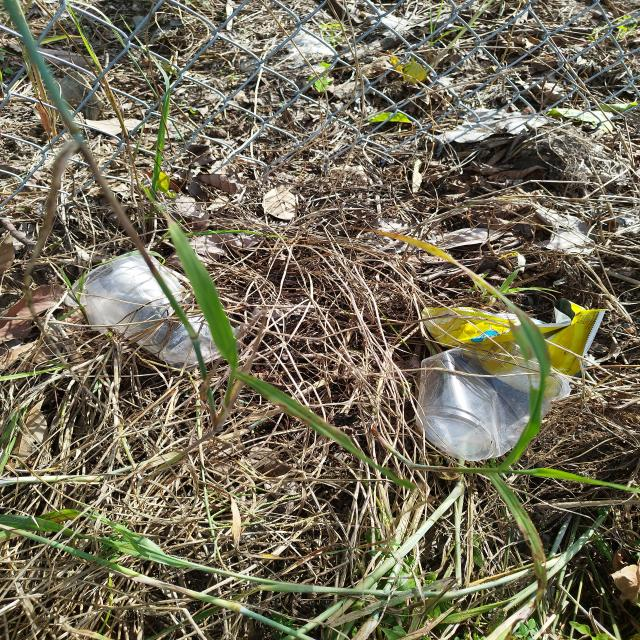plastic glass: (62, 250, 238, 364), (414, 341, 570, 462)
snack package: (420, 298, 606, 398)
